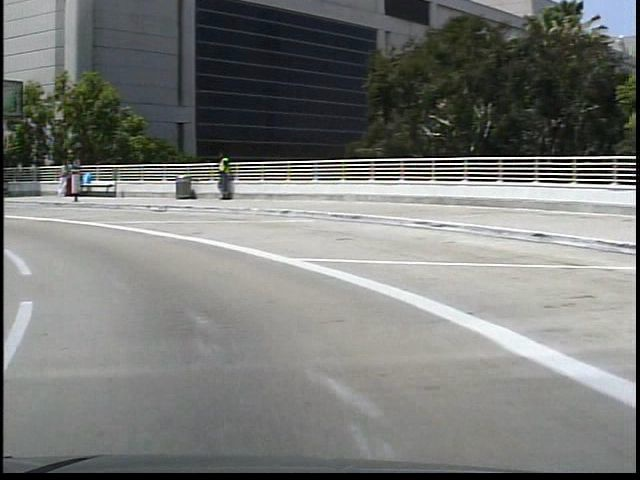person: (208, 148, 230, 203)
